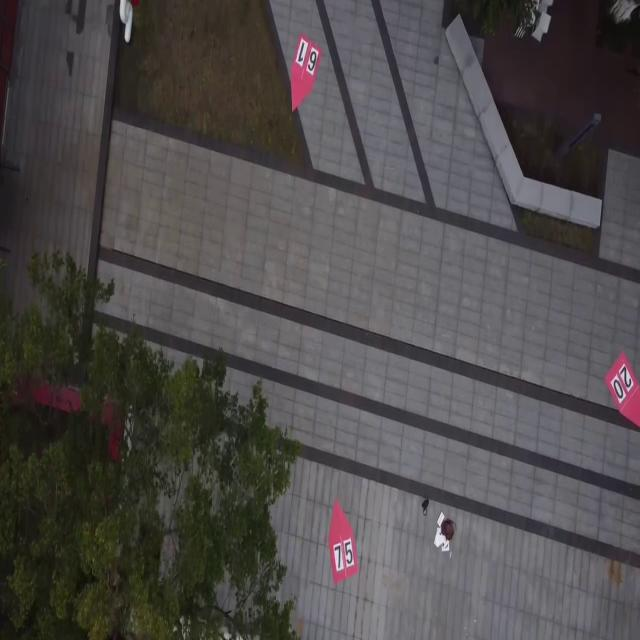-sign-: (603, 349, 640, 429), (328, 497, 358, 584), (290, 33, 322, 113)
